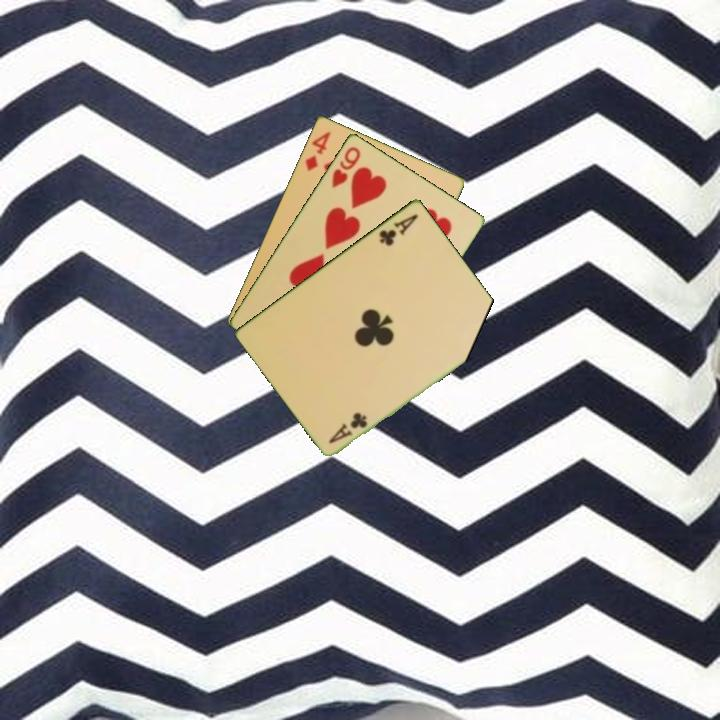4d: (301, 127, 333, 173)
9h: (328, 142, 363, 191)
Ac: (375, 210, 421, 249), (325, 408, 371, 446)
